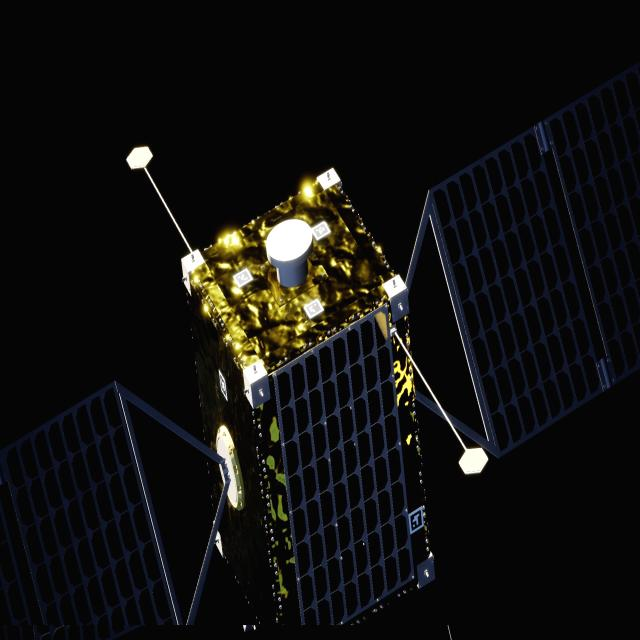satellite: (0, 61, 640, 640)
